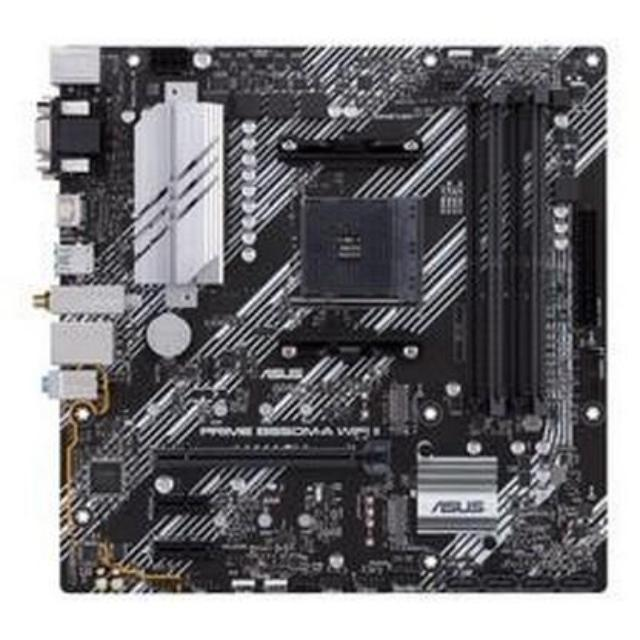Mainboard: (42, 38, 610, 598)
